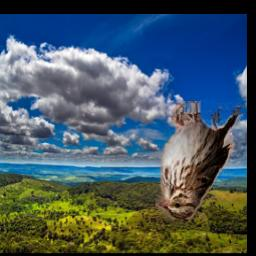Sparrow: (156, 102, 244, 220)
